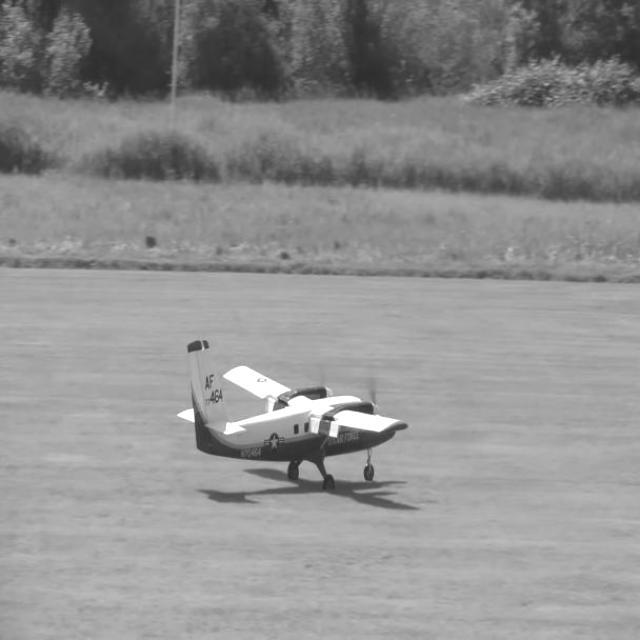iha: (171, 333, 413, 494)
